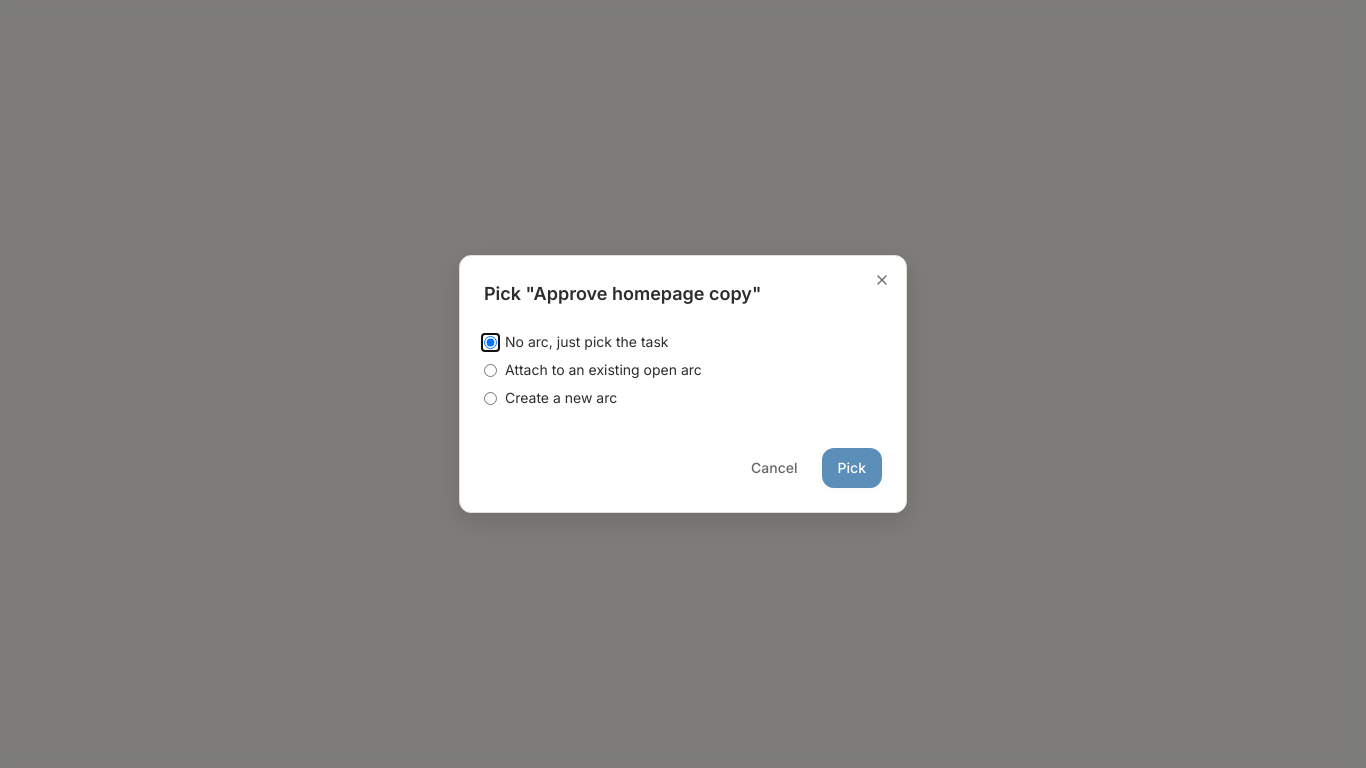
Test case: PickToArcDialog — pick + attach calls › surfaces the 409 API message verbatim on the cap error
Click the button "Pick": click(852, 468) [822,448,882,488]
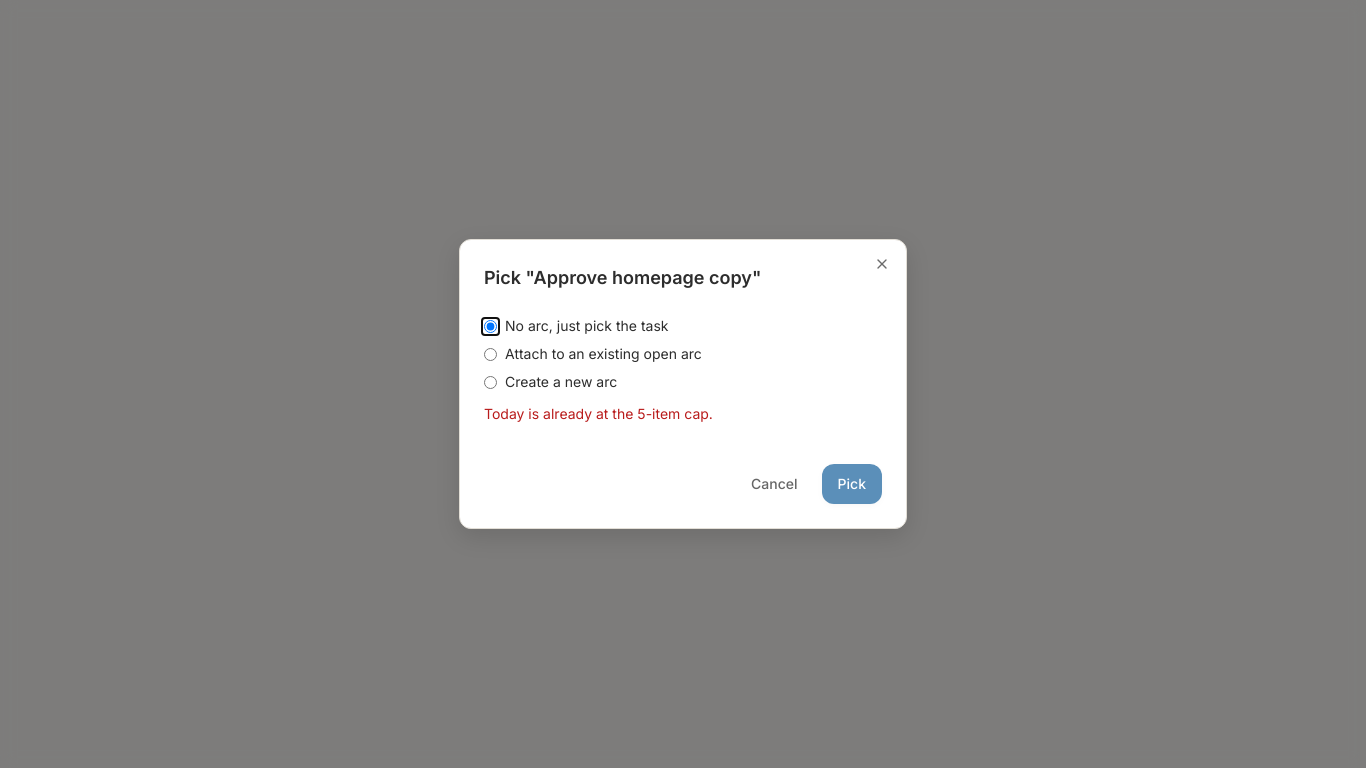
Expected: the text with test id "pick-error" reads "Today is already at the 5-item cap.", [484,405,713,422]
